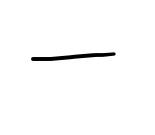minus: (31, 51, 115, 60)
